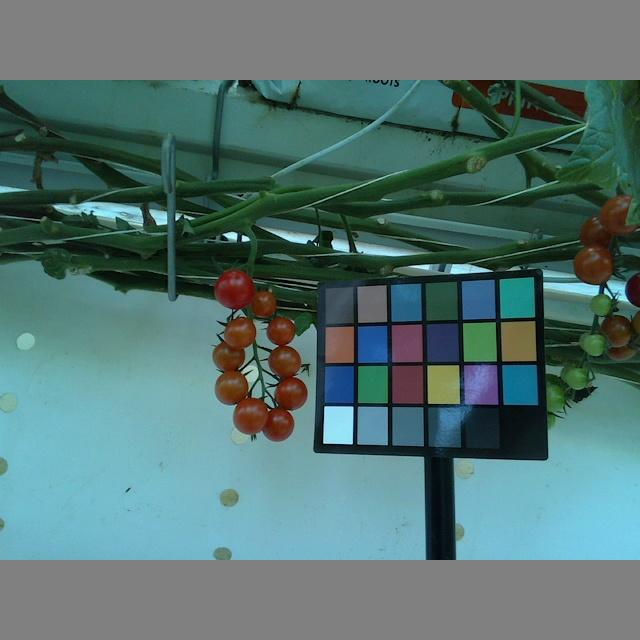green: (588, 292, 615, 319), (563, 368, 591, 391), (583, 331, 605, 356)
pink: (598, 193, 639, 236), (571, 246, 615, 286), (213, 368, 249, 406), (234, 396, 268, 436), (259, 407, 295, 442), (212, 338, 247, 374), (273, 377, 308, 412), (223, 316, 257, 350), (267, 345, 301, 378), (601, 315, 633, 350), (249, 287, 276, 320), (266, 316, 295, 346)
red: (215, 268, 255, 310)
